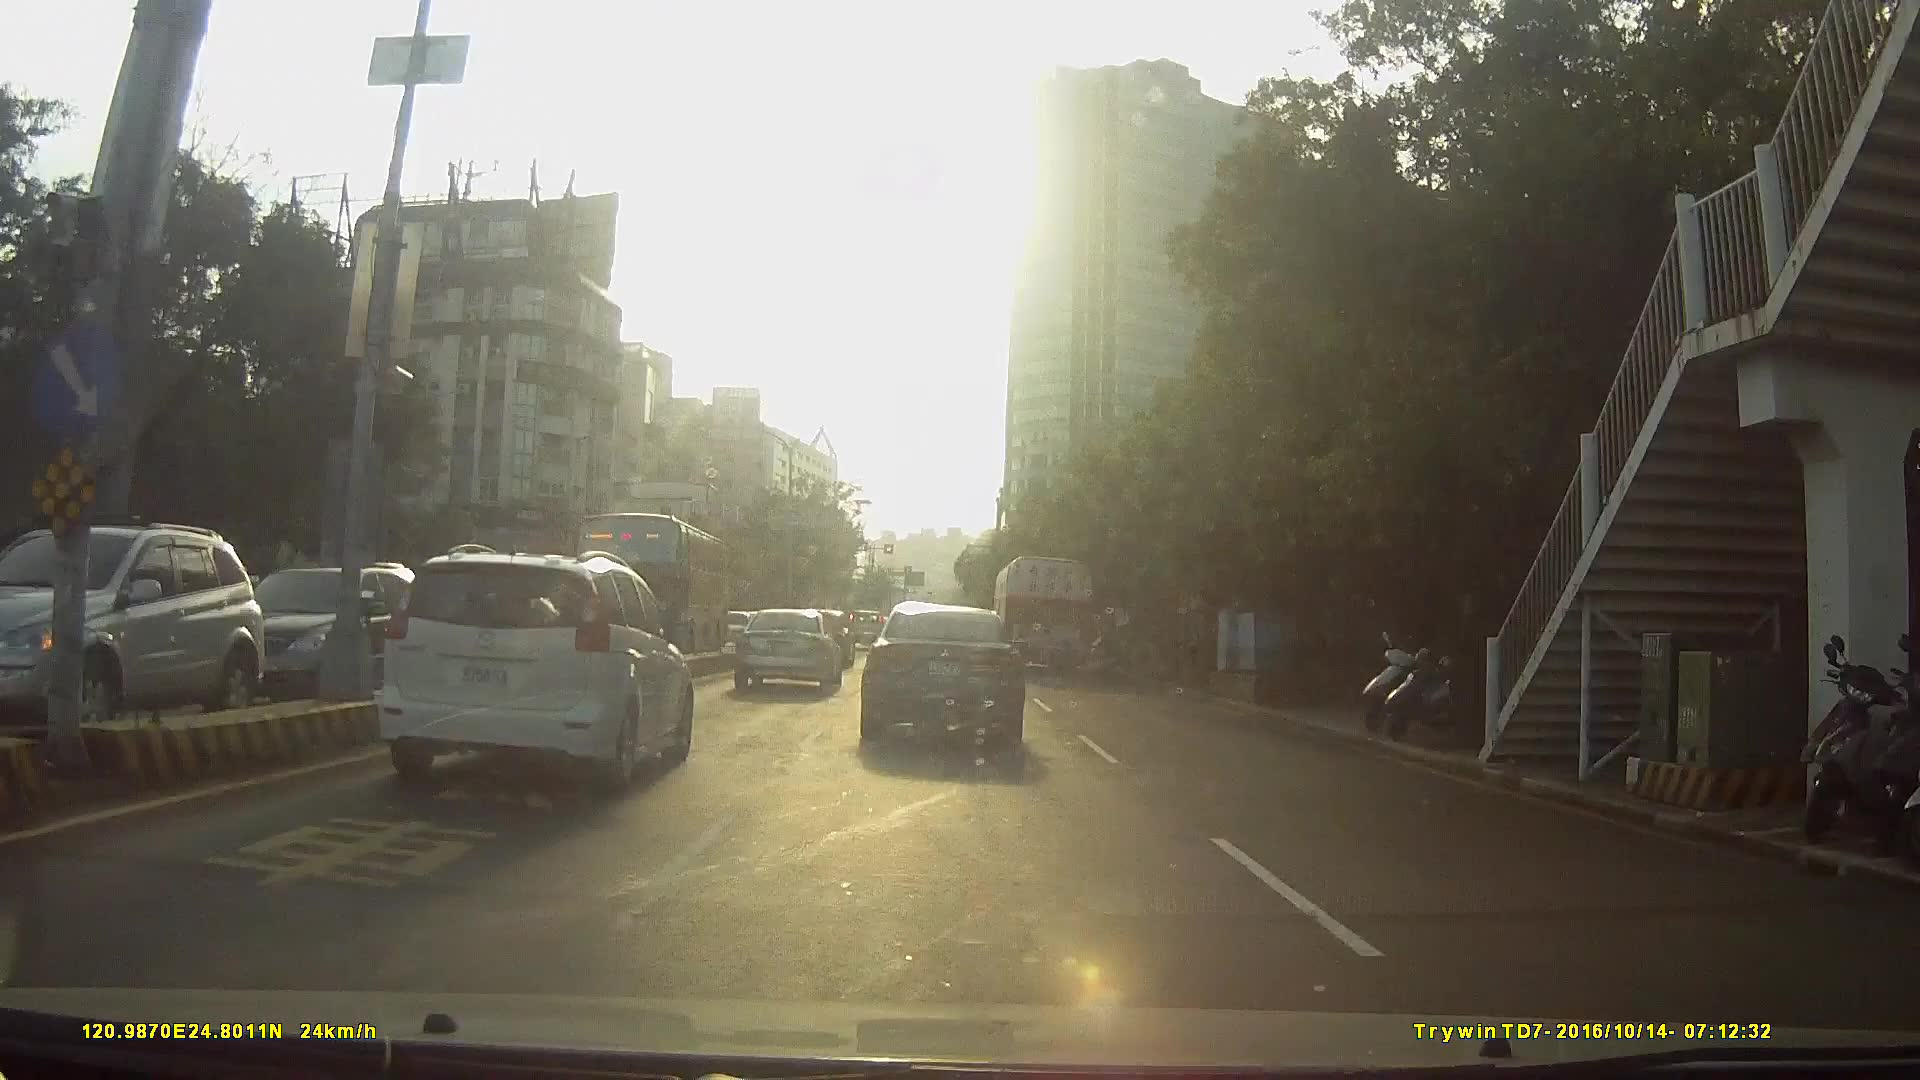vehicle: (251, 556, 684, 868), (378, 543, 694, 795), (1, 518, 287, 741), (200, 562, 433, 709), (858, 596, 1026, 764), (564, 510, 723, 657), (992, 553, 1097, 679), (731, 609, 841, 698), (843, 607, 890, 650)
